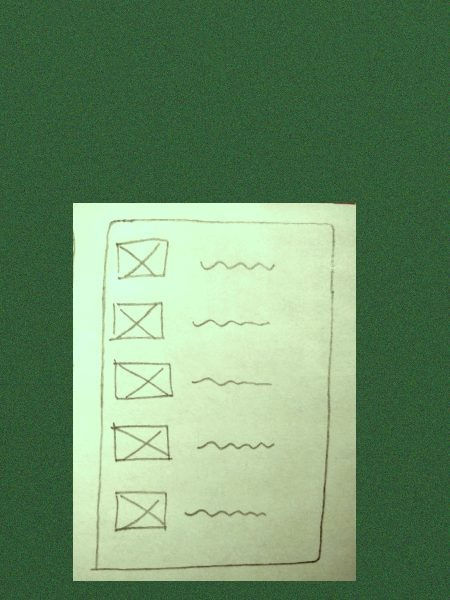image: (106, 487, 174, 534), (108, 418, 176, 463), (108, 358, 176, 402), (113, 238, 171, 284), (108, 299, 166, 345)
text: (181, 496, 274, 524), (194, 250, 278, 279), (190, 307, 274, 336), (189, 366, 273, 395), (193, 428, 277, 457)
